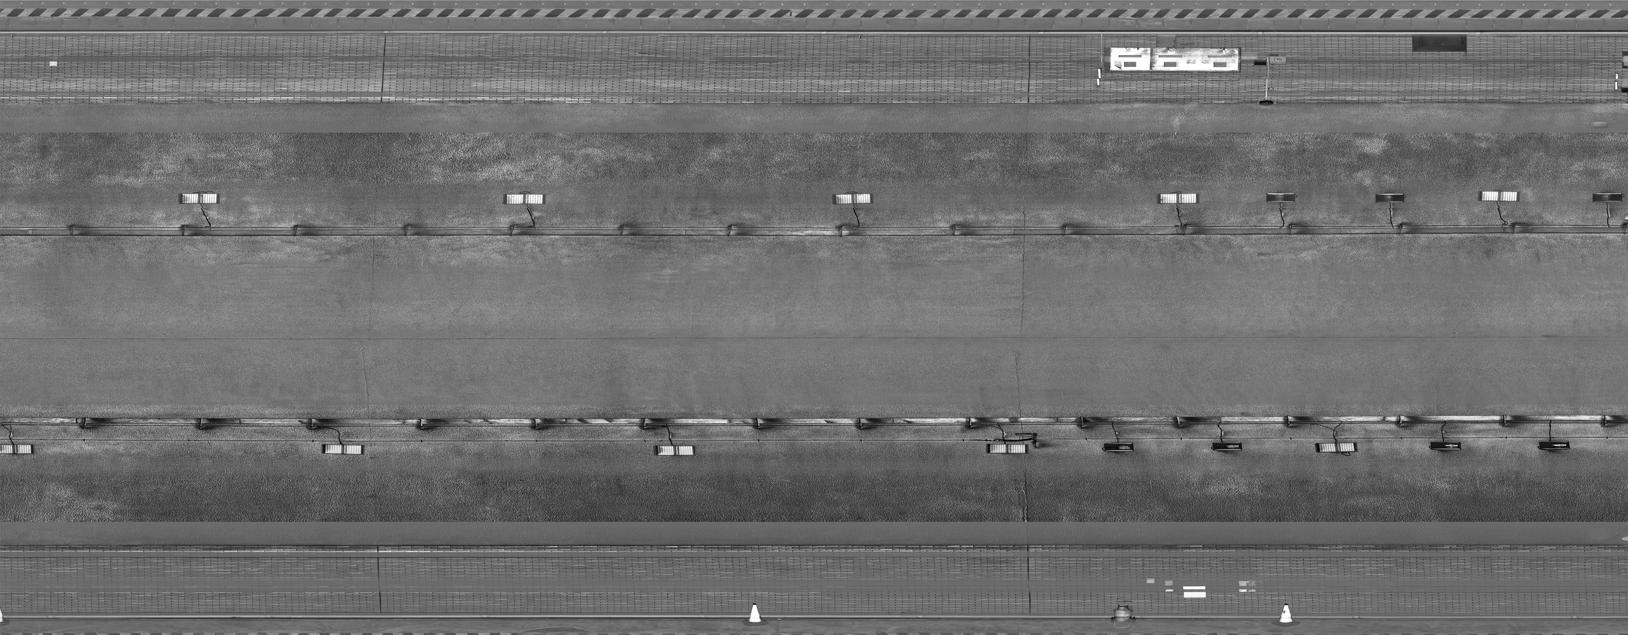light: (1150, 185, 1208, 208), (1471, 185, 1528, 208), (169, 188, 226, 210), (317, 437, 374, 459), (497, 190, 554, 212), (645, 438, 702, 460), (822, 190, 879, 212), (980, 437, 1037, 459), (1311, 435, 1368, 457), (1, 438, 43, 460), (1095, 437, 1142, 455), (1202, 436, 1249, 454), (1259, 186, 1306, 204), (1368, 187, 1415, 205), (1423, 435, 1470, 453), (1530, 437, 1577, 455), (1581, 186, 1628, 204)
